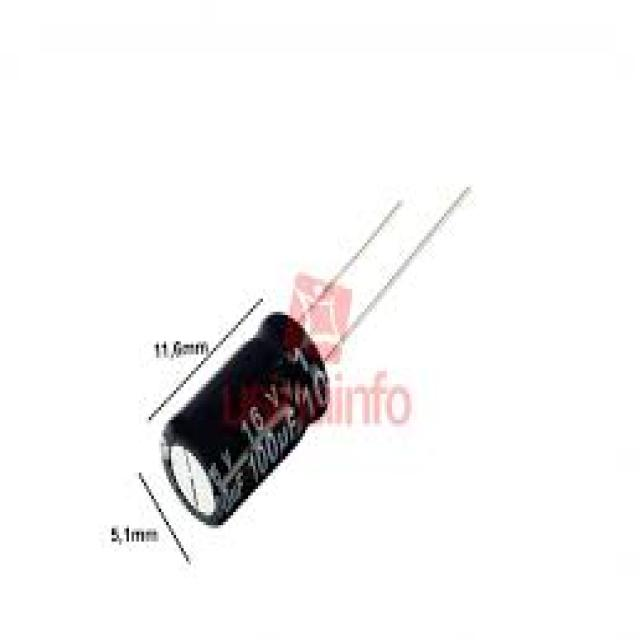Resistor: (159, 312, 332, 528)
